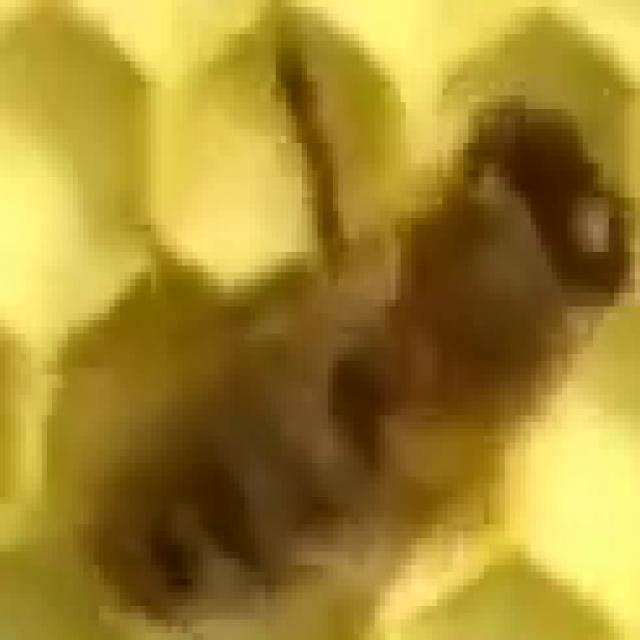honeybee: (100, 97, 624, 604)
